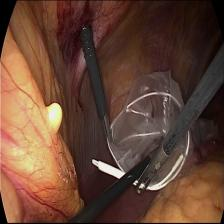Grasper: (133, 146, 171, 196), (102, 113, 116, 151)
Specimen Bag: (107, 68, 196, 197)
